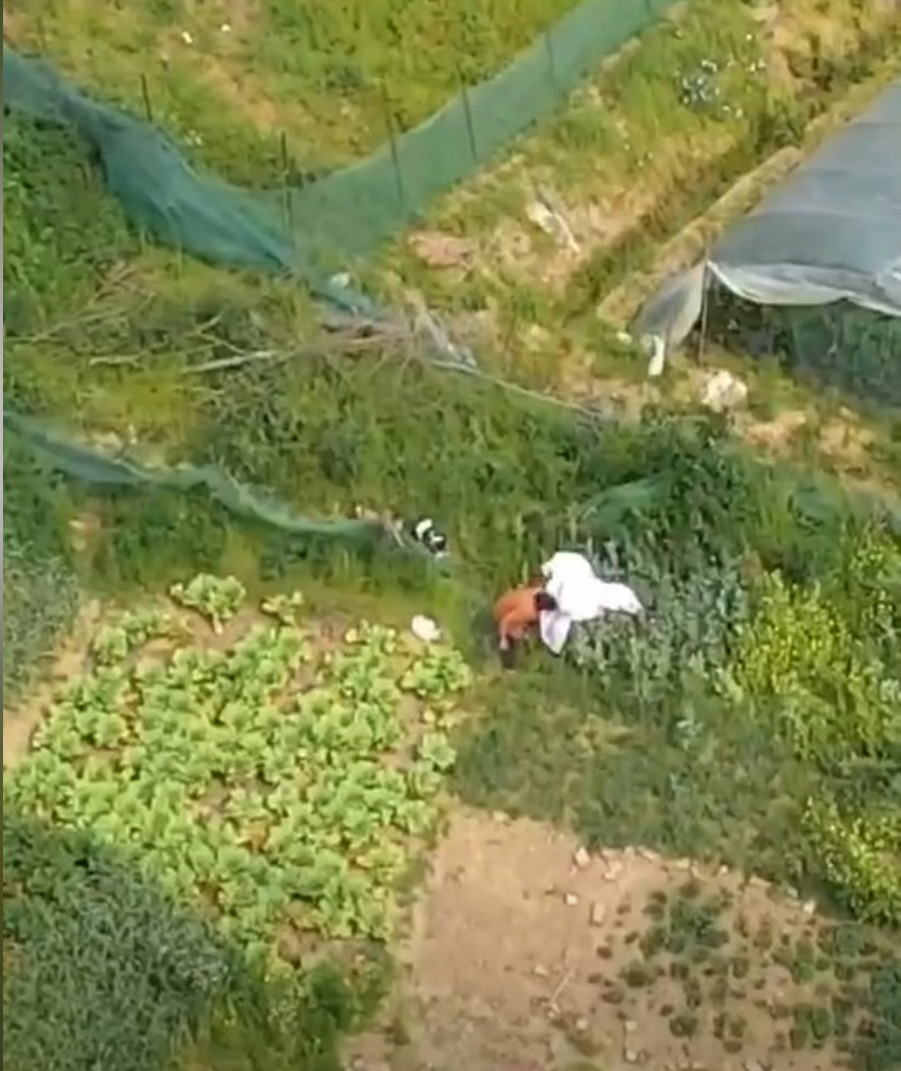Poppy: (579, 525, 750, 691)
